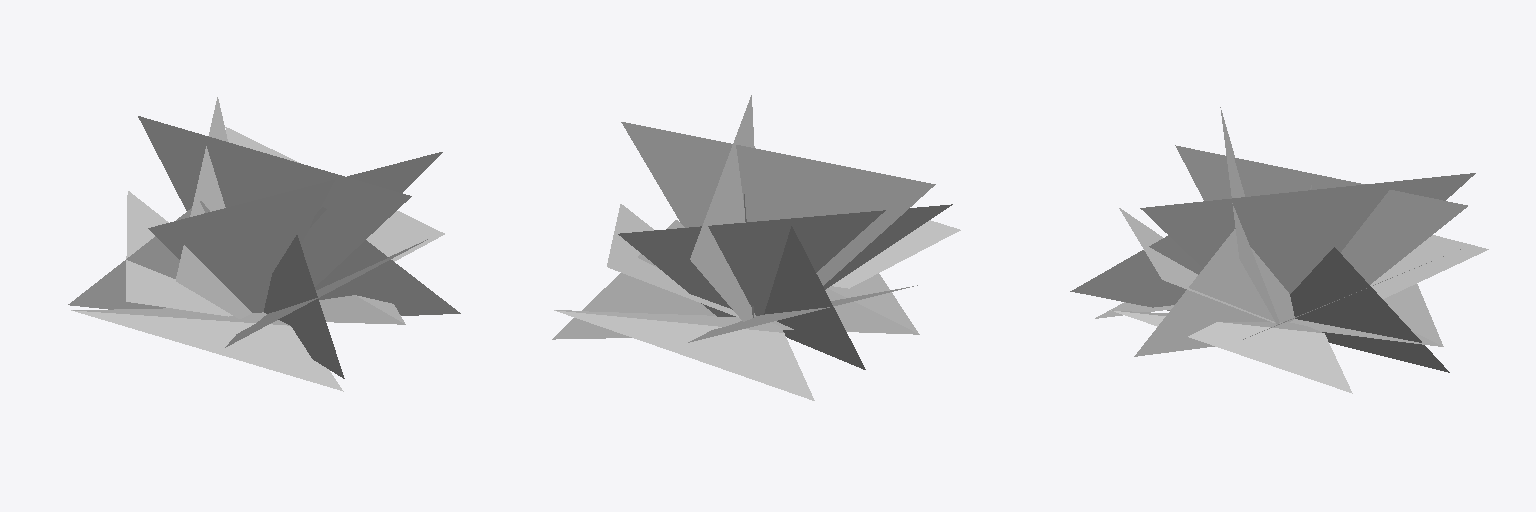
Rendered from grass.obj.
The picture shows the model from 3 angles: view 1: azimuth 30°, elevation 25°; view 2: azimuth 150°, elevation 25°; view 3: azimuth 270°, elevation 25°; orthographic projection.
Parts seen in each view (by area): view 1: node-0E7938E5_geom-0E7938E5; view 2: node-0E7938E5_geom-0E7938E5; view 3: node-0E7938E5_geom-0E7938E5.
Part boxes in pixels (x1,y1,x2,y2): node-0E7938E5_geom-0E7938E5: (68,97,460,391); node-0E7938E5_geom-0E7938E5: (552,95,960,400); node-0E7938E5_geom-0E7938E5: (1070,107,1488,393).
Bounding box in the file's own units: 1.63 × 0.8287 × 1.75.